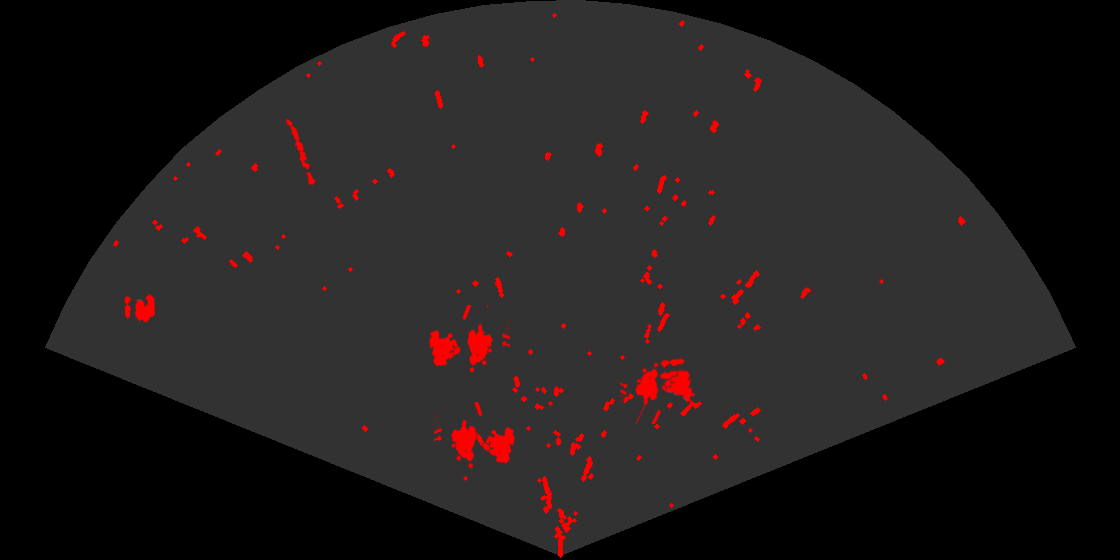ball: (658, 357, 693, 394), (123, 293, 157, 324)
cage: (427, 305, 510, 374), (434, 402, 517, 470), (620, 361, 694, 424)
chain: (284, 116, 317, 187)
